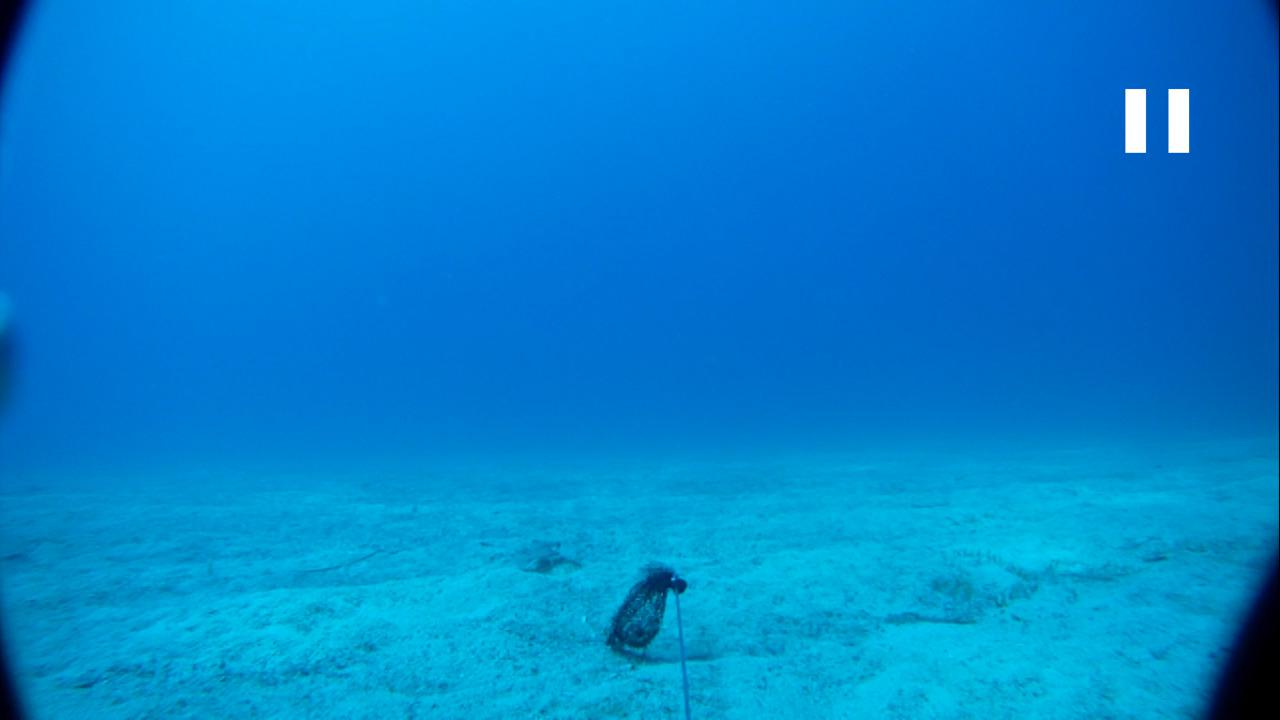dactylopterus: (496, 531, 575, 578)
